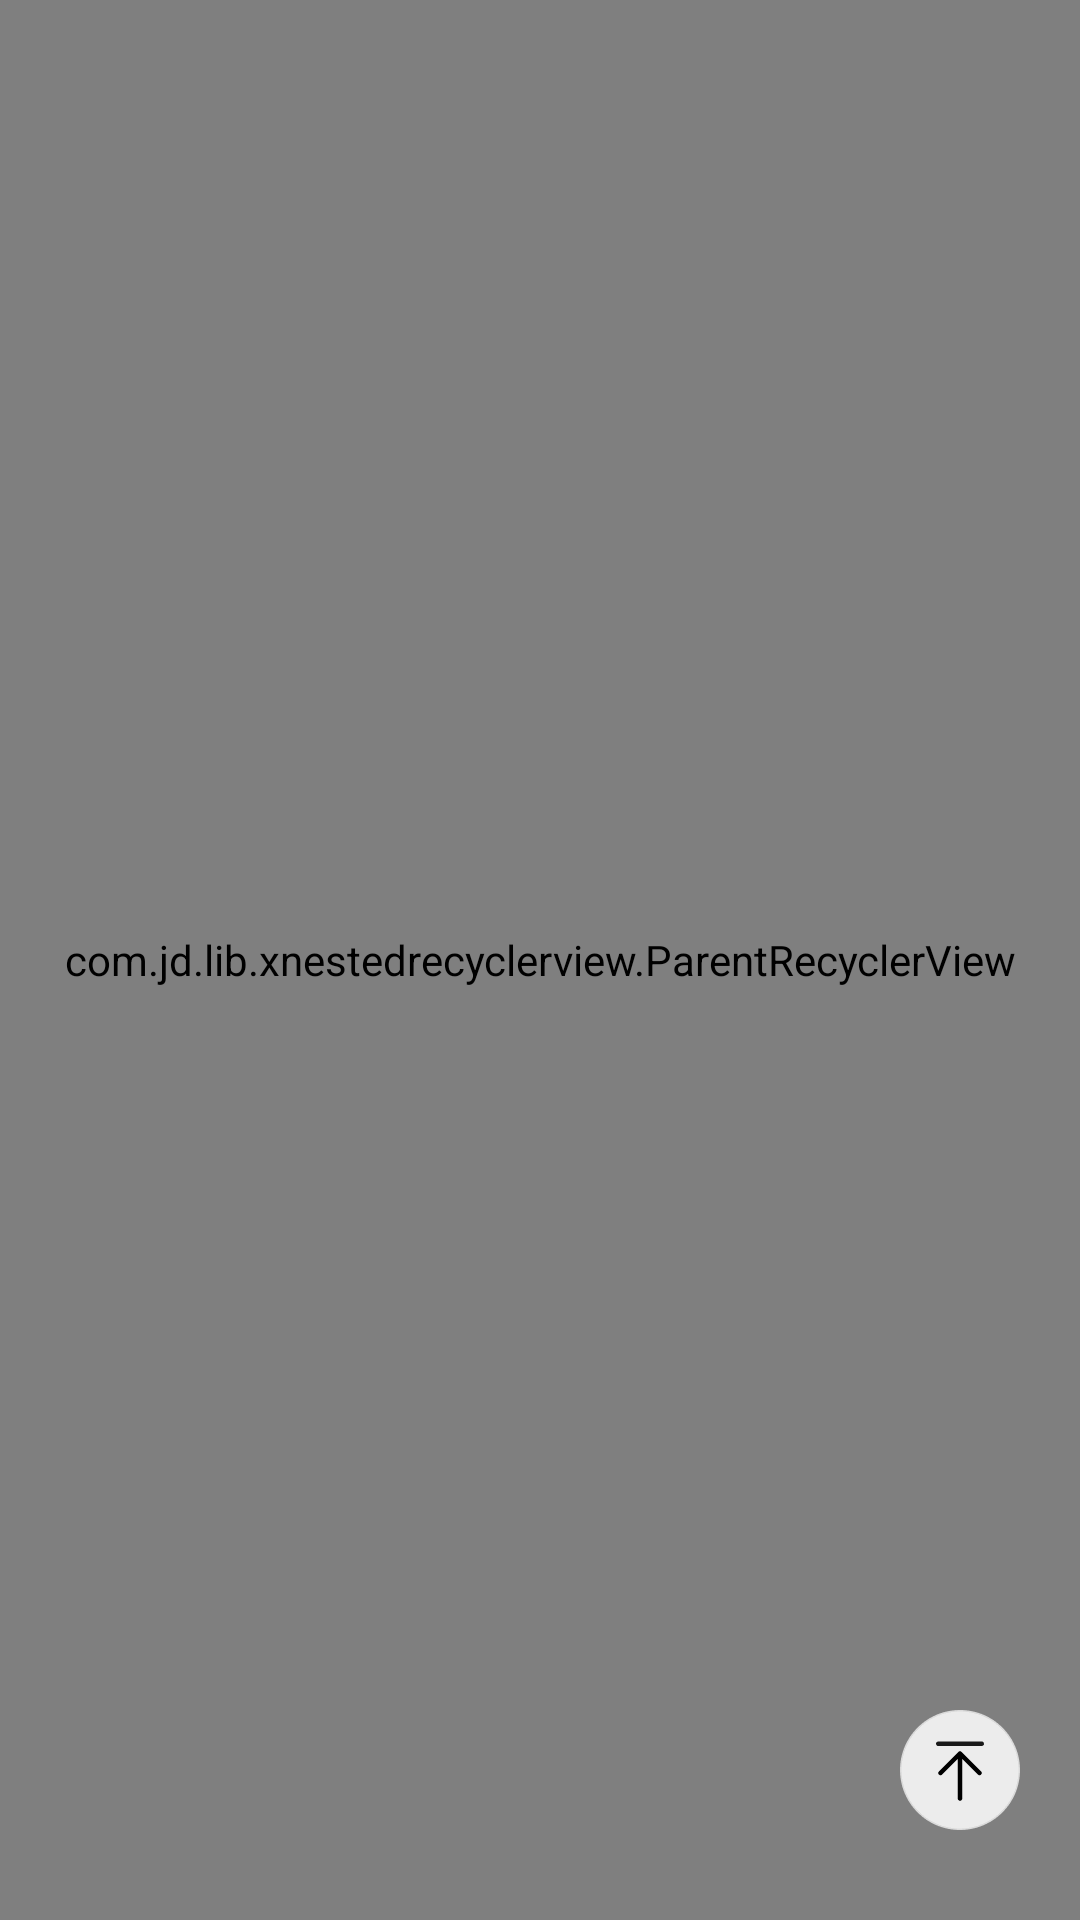

Where to tap for icons on this 1080w x 1920h app screen, as [x,y]:
top: [960,1770]
